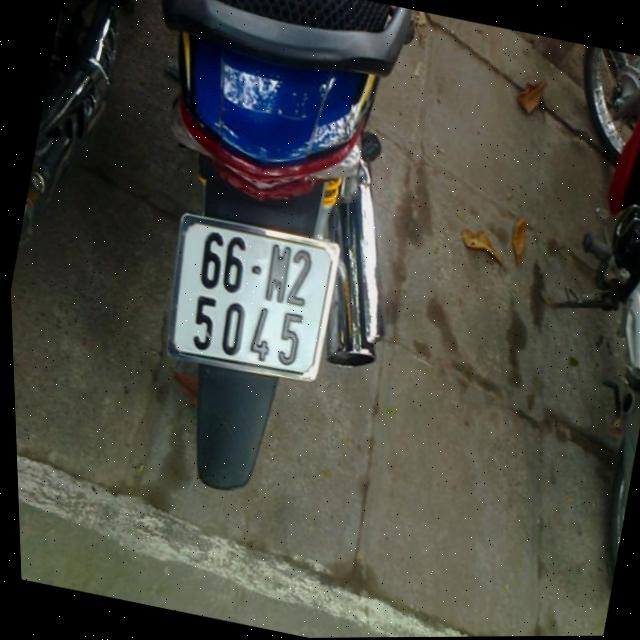motorcycle: (58, 0, 460, 520), (450, 39, 640, 600)
plate: (149, 204, 351, 389)
